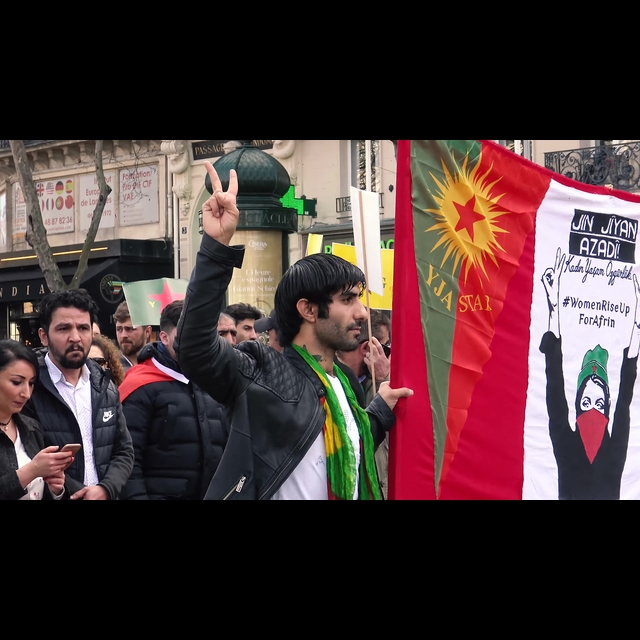ZI: (192, 158, 251, 250)
